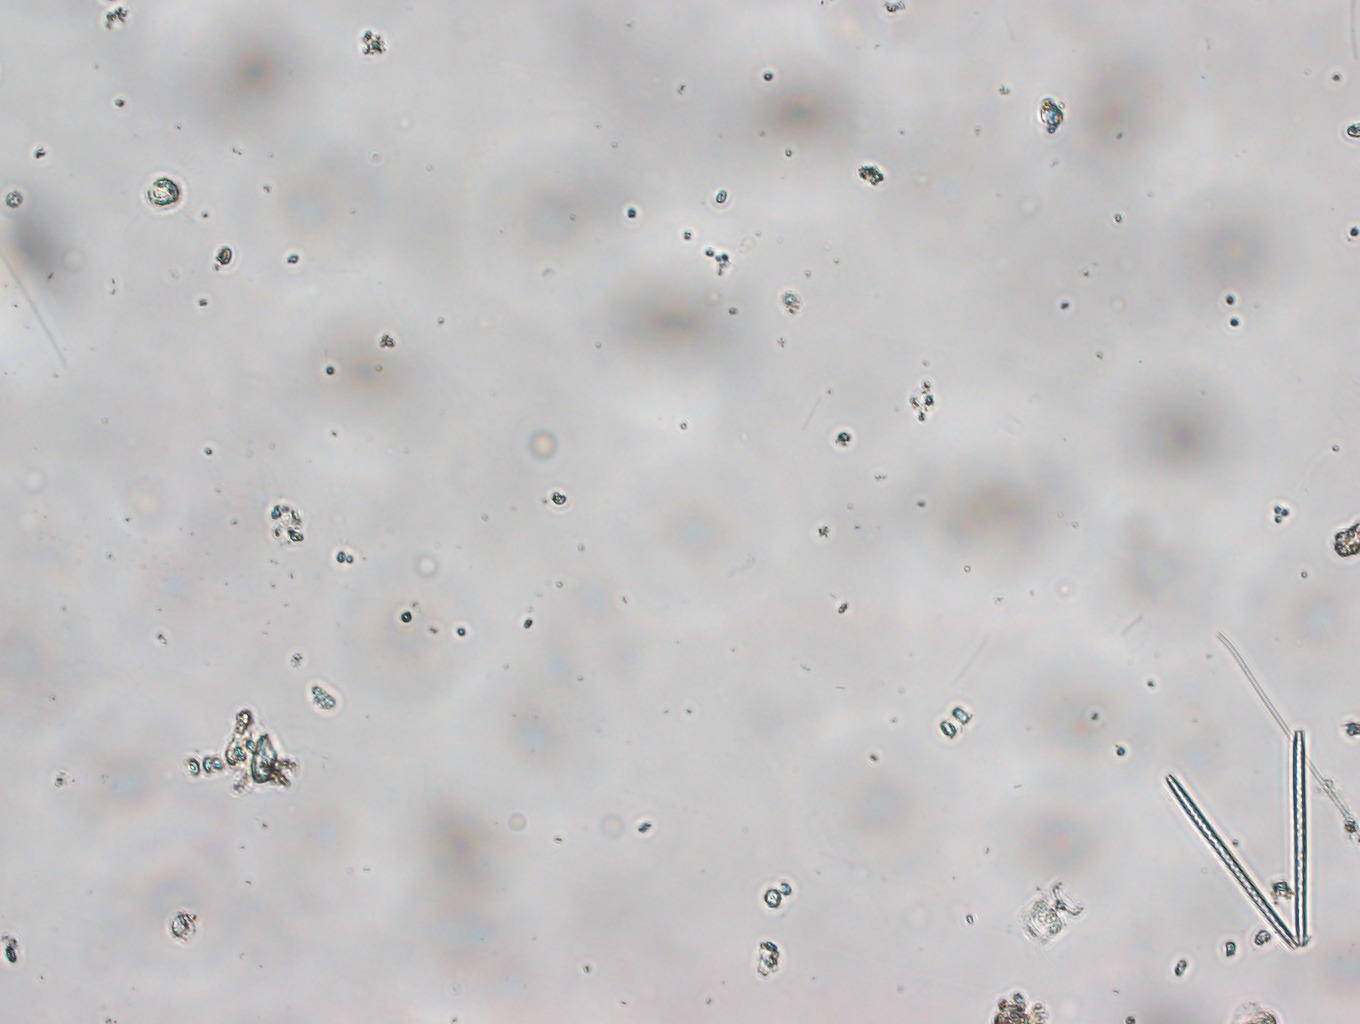thalassionema frauenfeldii: (1159, 719, 1322, 961)
